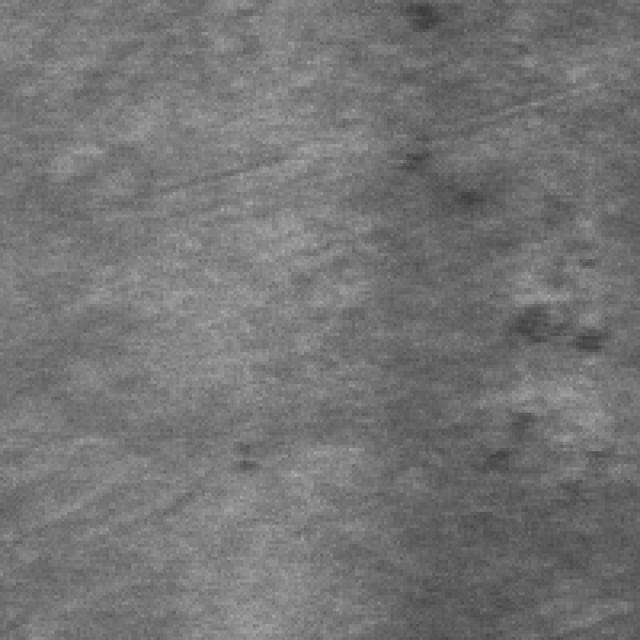rolled-in_scale: (474, 275, 604, 496)
